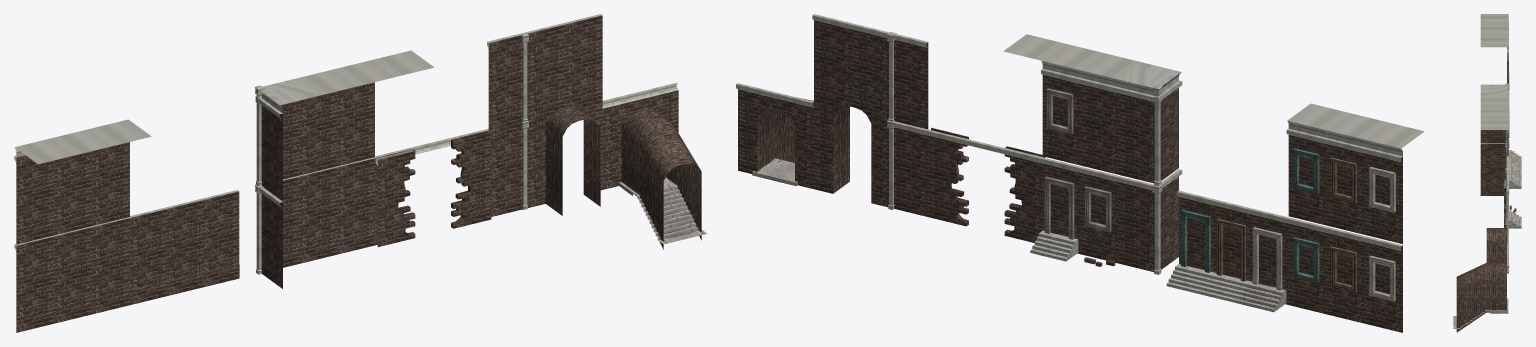
Rendered from building_modelar.fbx.
3 views of the same model, side by side, from view 1: azimuth 30°, elevation 25°; view 2: azimuth 150°, elevation 25°; view 3: azimuth 270°, elevation 25° (orthographic). The views are drawn at different scales.
Parts seen in each view (by area): view 1: Brick_wall_arch_DOOR, Brick_wall_basement_DOOR, brick_wall_ugol_roof, Brick_wall_window_roof_stone, brick_wall_ugol, Brick_wall_window_roof_wood, Brick_wall_roof, Brick_wall_window_roof, Brick_wall_window_roof_wood_green, Brick_wall_door_stone, Brick_wall_door, Brick_wall_door_wood (+11 smaller); view 2: Brick_wall_arch_DOOR, brick_wall_ugol_roof, Brick_wall_basement_DOOR, brick_wall_ugol, Brick_wall_window_roof_wood_green, Brick_wall_roof, Brick_wall_window_roof_wood, Brick_wall_window_roof, Brick_wall_window_roof_stone, Brick_wall_door_stone, Brick_wall_door, Brick_wall_door_wood_green (+11 smaller); view 3: Brick_wall_basement_DOOR, brick_wall_ugol, Brick_wall_arch_DOOR, brick_wall_ugol_roof, Brick_wall_window_roof_wood_green, Brick_wall_window_roof, Brick_wall_roof, roof_part, Brick_wall_window_roof_wood, Brick_wall_window_roof_stone, Brick_wall_door, Brick_wall_door_stone.002 (+6 smaller).
Part boxes in pixels (bbox=[...]): Brick_wall_arch_DOOR: bbox=[525, 14, 602, 215]; Brick_wall_basement_DOOR: bbox=[602, 83, 701, 249]; brick_wall_ugol_roof: bbox=[254, 78, 320, 200]; Brick_wall_window_roof_stone: bbox=[14, 138, 75, 244]; brick_wall_ugol: bbox=[254, 176, 298, 288]; Brick_wall_window_roof_wood: bbox=[53, 128, 113, 235]; Brick_wall_roof: bbox=[298, 69, 358, 175]; Brick_wall_window_roof: bbox=[336, 59, 396, 166]; Brick_wall_window_roof_wood_green: bbox=[91, 119, 151, 225]; Brick_wall_door_stone: bbox=[129, 207, 168, 304]; Brick_wall_door: bbox=[336, 157, 375, 254]; Brick_wall_door_wood: bbox=[165, 199, 203, 296]; Brick_wall_arch_DOOR: bbox=[812, 14, 889, 207]; brick_wall_ugol_roof: bbox=[1117, 62, 1182, 185]; Brick_wall_basement_DOOR: bbox=[736, 83, 813, 188]; brick_wall_ugol: bbox=[1117, 169, 1182, 274]; Brick_wall_window_roof_wood_green: bbox=[1286, 103, 1348, 225]; Brick_wall_roof: bbox=[1079, 53, 1140, 174]; Brick_wall_window_roof_wood: bbox=[1325, 113, 1386, 234]; Brick_wall_window_roof: bbox=[1041, 43, 1102, 165]; Brick_wall_window_roof_stone: bbox=[1363, 122, 1424, 243]; Brick_wall_door_stone: bbox=[1238, 208, 1288, 312]; Brick_wall_door: bbox=[1030, 157, 1080, 261]; Brick_wall_door_wood_green: bbox=[1166, 190, 1216, 294]; Brick_wall_basement_DOOR: bbox=[1456, 243, 1509, 332]; brick_wall_ugol: bbox=[1480, 142, 1509, 195]; Brick_wall_arch_DOOR: bbox=[1486, 169, 1509, 262]; brick_wall_ugol_roof: bbox=[1480, 83, 1509, 143]; Brick_wall_window_roof_wood_green: bbox=[1480, 36, 1508, 83]; Brick_wall_window_roof: bbox=[1480, 107, 1508, 156]; Brick_wall_roof: bbox=[1480, 96, 1508, 112]; roof_part: bbox=[1480, 118, 1508, 129]; Brick_wall_window_roof_wood: bbox=[1480, 25, 1508, 41]; Brick_wall_window_roof_stone: bbox=[1480, 14, 1508, 29]; Brick_wall_door: bbox=[1508, 210, 1521, 228]; Brick_wall_door_stone.002: bbox=[1453, 298, 1508, 328].
Size of the model in its own units: 3491 by 519 by 1111.
